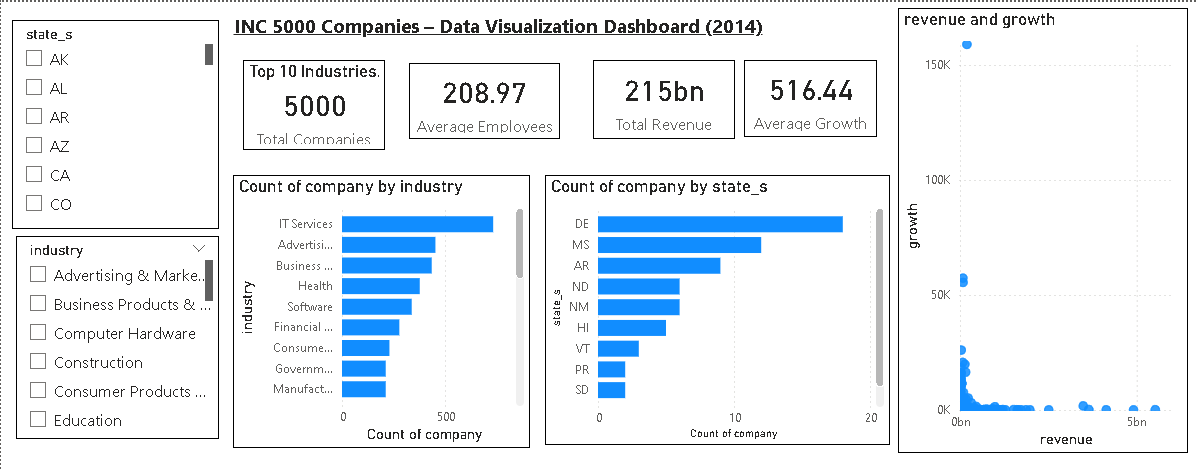

What the dashboard file says about the page in this screenshot:
{"tool":"powerbi","page":{"name":"Page 1","canvas":[1280,720],"ordinal":0},"visuals":[{"type":"card","title":"Top 10 Industries.","fields":{"Values":["Companies.Total Companies"]},"box":[242,58,142,90],"z":0},{"type":"card","fields":{"Values":["Companies.Total Revenue"]},"box":[592,58,142,79],"z":1000},{"type":"card","fields":{"Values":["Companies.Average Growth"]},"box":[743,58,133,77],"z":2000},{"type":"card","fields":{"Values":["Companies.Average Employees"]},"box":[408,61,151,76],"z":3000},{"type":"clusteredBarChart","fields":{"Y":["CountNonNull(Companies.company)"],"Category":["Companies.industry"]},"box":[232,173,297,273],"z":4000},{"type":"clusteredBarChart","fields":{"Y":["CountNonNull(Companies.company)"],"Category":["Companies.state_s"]},"box":[544,173,345,270],"z":5000},{"type":"scatterChart","fields":{"X":["Companies.revenue"],"Y":["Companies.growth"]},"box":[897,6,290,445],"z":6000},{"type":"slicer","fields":{"Values":["Companies.industry"]},"box":[15,234,203,203],"z":7000},{"type":"slicer","fields":{"Values":["Companies.state_s"]},"box":[11,18,207,209],"z":8000},{"type":"textbox","box":[218,6,558,37],"z":9000}]}

Visuals, with their boxes on the page's 1280x720 design canvas (x1, y1, x2, y2). These are canvas units, not pixel positions in the 1197x469 screenshot, which may show the page scaled, cropped or inside an application window:
"Top 10 Industries." card: box=[242, 58, 384, 148]
card - Companies.Total Revenue: box=[592, 58, 734, 137]
card - Companies.Average Growth: box=[743, 58, 876, 135]
card - Companies.Average Employees: box=[408, 61, 559, 137]
clusteredBarChart - CountNonNull(Companies.company) x Companies.industry: box=[232, 173, 529, 446]
clusteredBarChart - CountNonNull(Companies.company) x Companies.state_s: box=[544, 173, 889, 443]
scatterChart - Companies.revenue x Companies.growth: box=[897, 6, 1187, 451]
slicer - Companies.industry: box=[15, 234, 218, 437]
slicer - Companies.state_s: box=[11, 18, 218, 227]
textbox: box=[218, 6, 776, 43]
